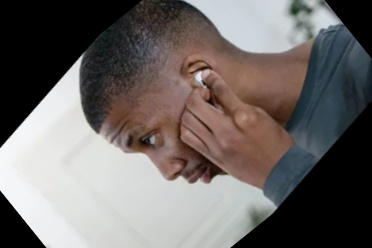earphone: (169, 42, 233, 108)
